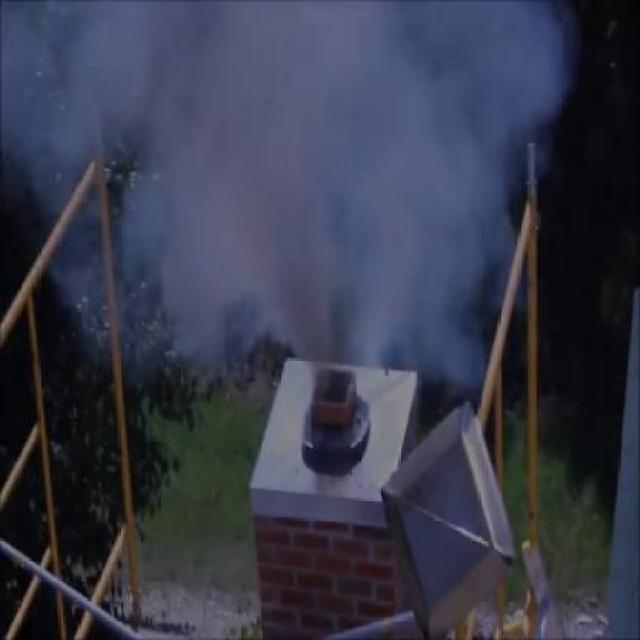smoke: (92, 21, 574, 364)
